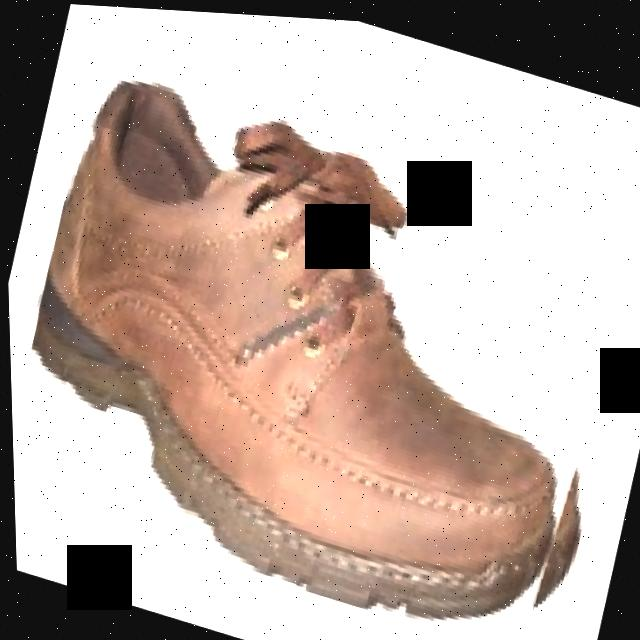shoe: (1, 44, 640, 640)
